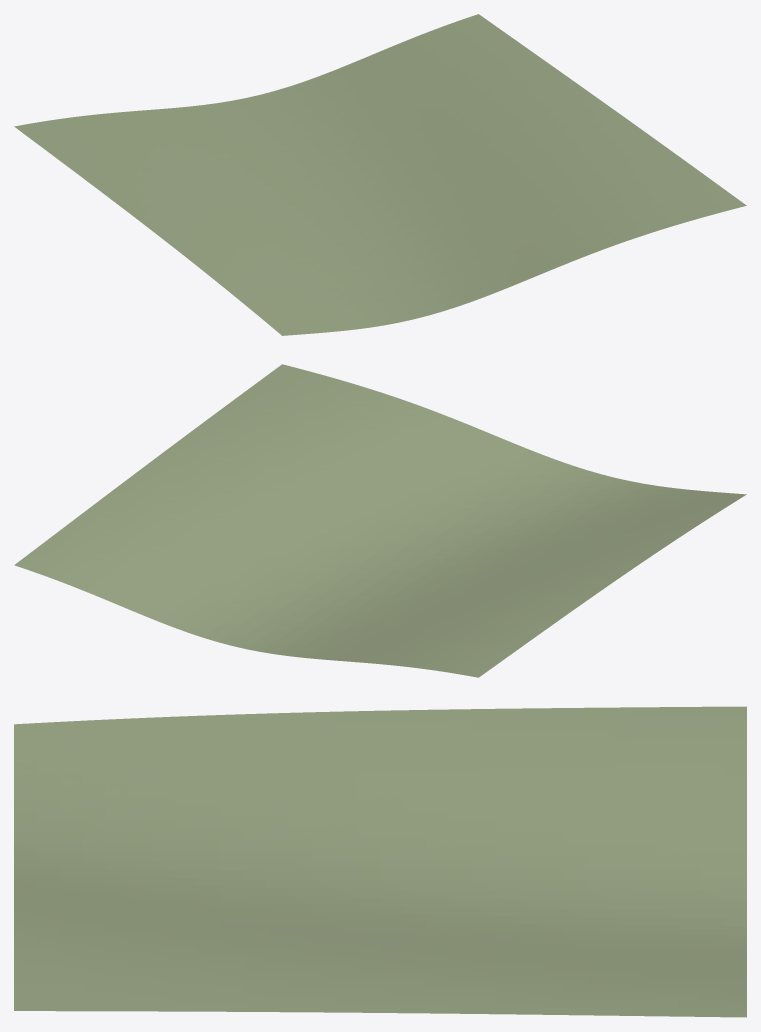
Rendered from desert-13-9.glb.
The picture shows the model from 3 angles, top to bottom: view 1: azimuth 30°, elevation 25°; view 2: azimuth 150°, elevation 25°; view 3: azimuth 270°, elevation 25°; orthographic projection. The views are drawn at different scales.
Parts seen in each view (by area): view 1: desert-13-9; view 2: desert-13-9; view 3: desert-13-9.
Boxes of the visible parts, x1,y1,x2,y2 form: desert-13-9: (14,14,746,335); desert-13-9: (14,364,746,677); desert-13-9: (14,706,746,1017).
Size of the model in its own units: 512 by 34.08 by 512.
